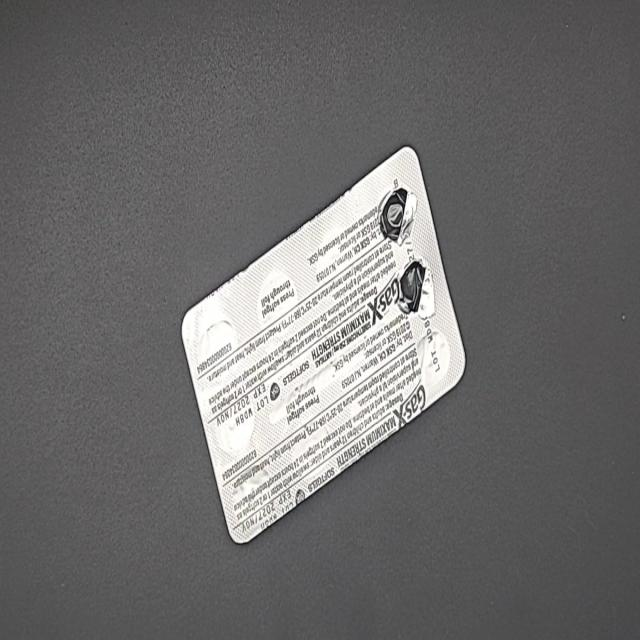defect: (375, 181, 420, 248), (395, 252, 438, 322)
